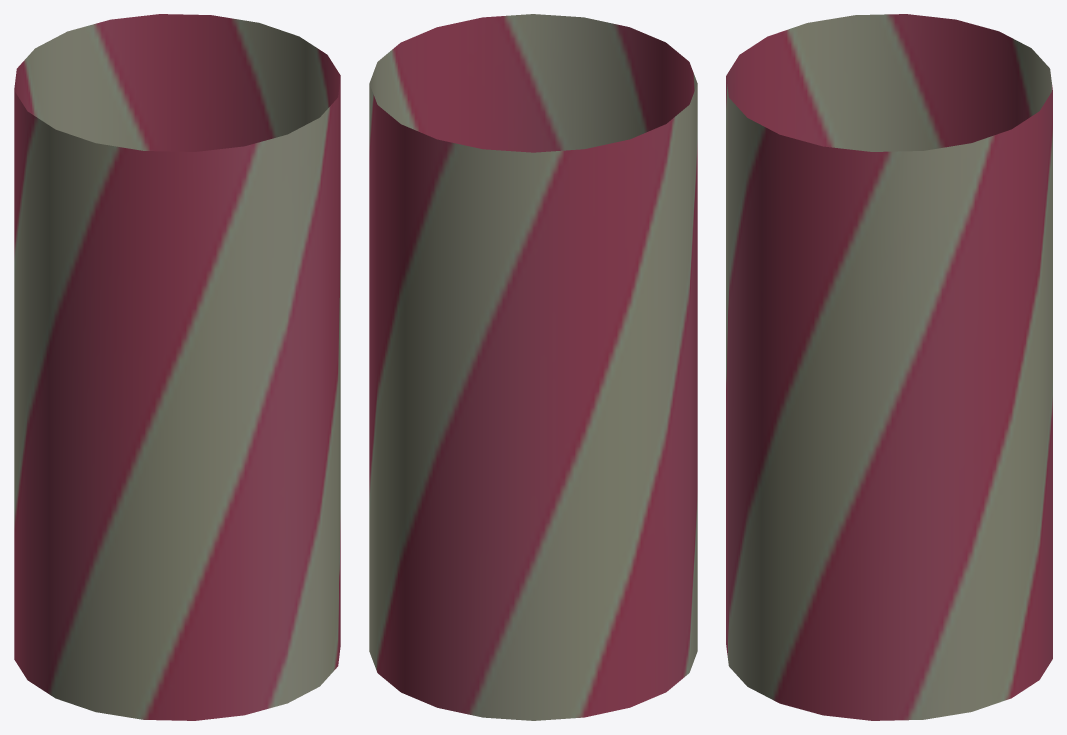
Rendered from 0-spiral_128.fbx.
The picture shows the model from 3 angles, left to right: view 1: azimuth 30°, elevation 25°; view 2: azimuth 150°, elevation 25°; view 3: azimuth 270°, elevation 25°; orthographic projection.
Parts seen in each view (by area): view 1: 0-spiral_128; view 2: 0-spiral_128; view 3: 0-spiral_128.
Part boxes in pixels (x1,y1,x2,y2): 0-spiral_128: (14, 14, 340, 720); 0-spiral_128: (369, 14, 697, 720); 0-spiral_128: (726, 14, 1052, 720).
Bounding box in the file's own units: 44.44 × 85.38 × 44.44.
